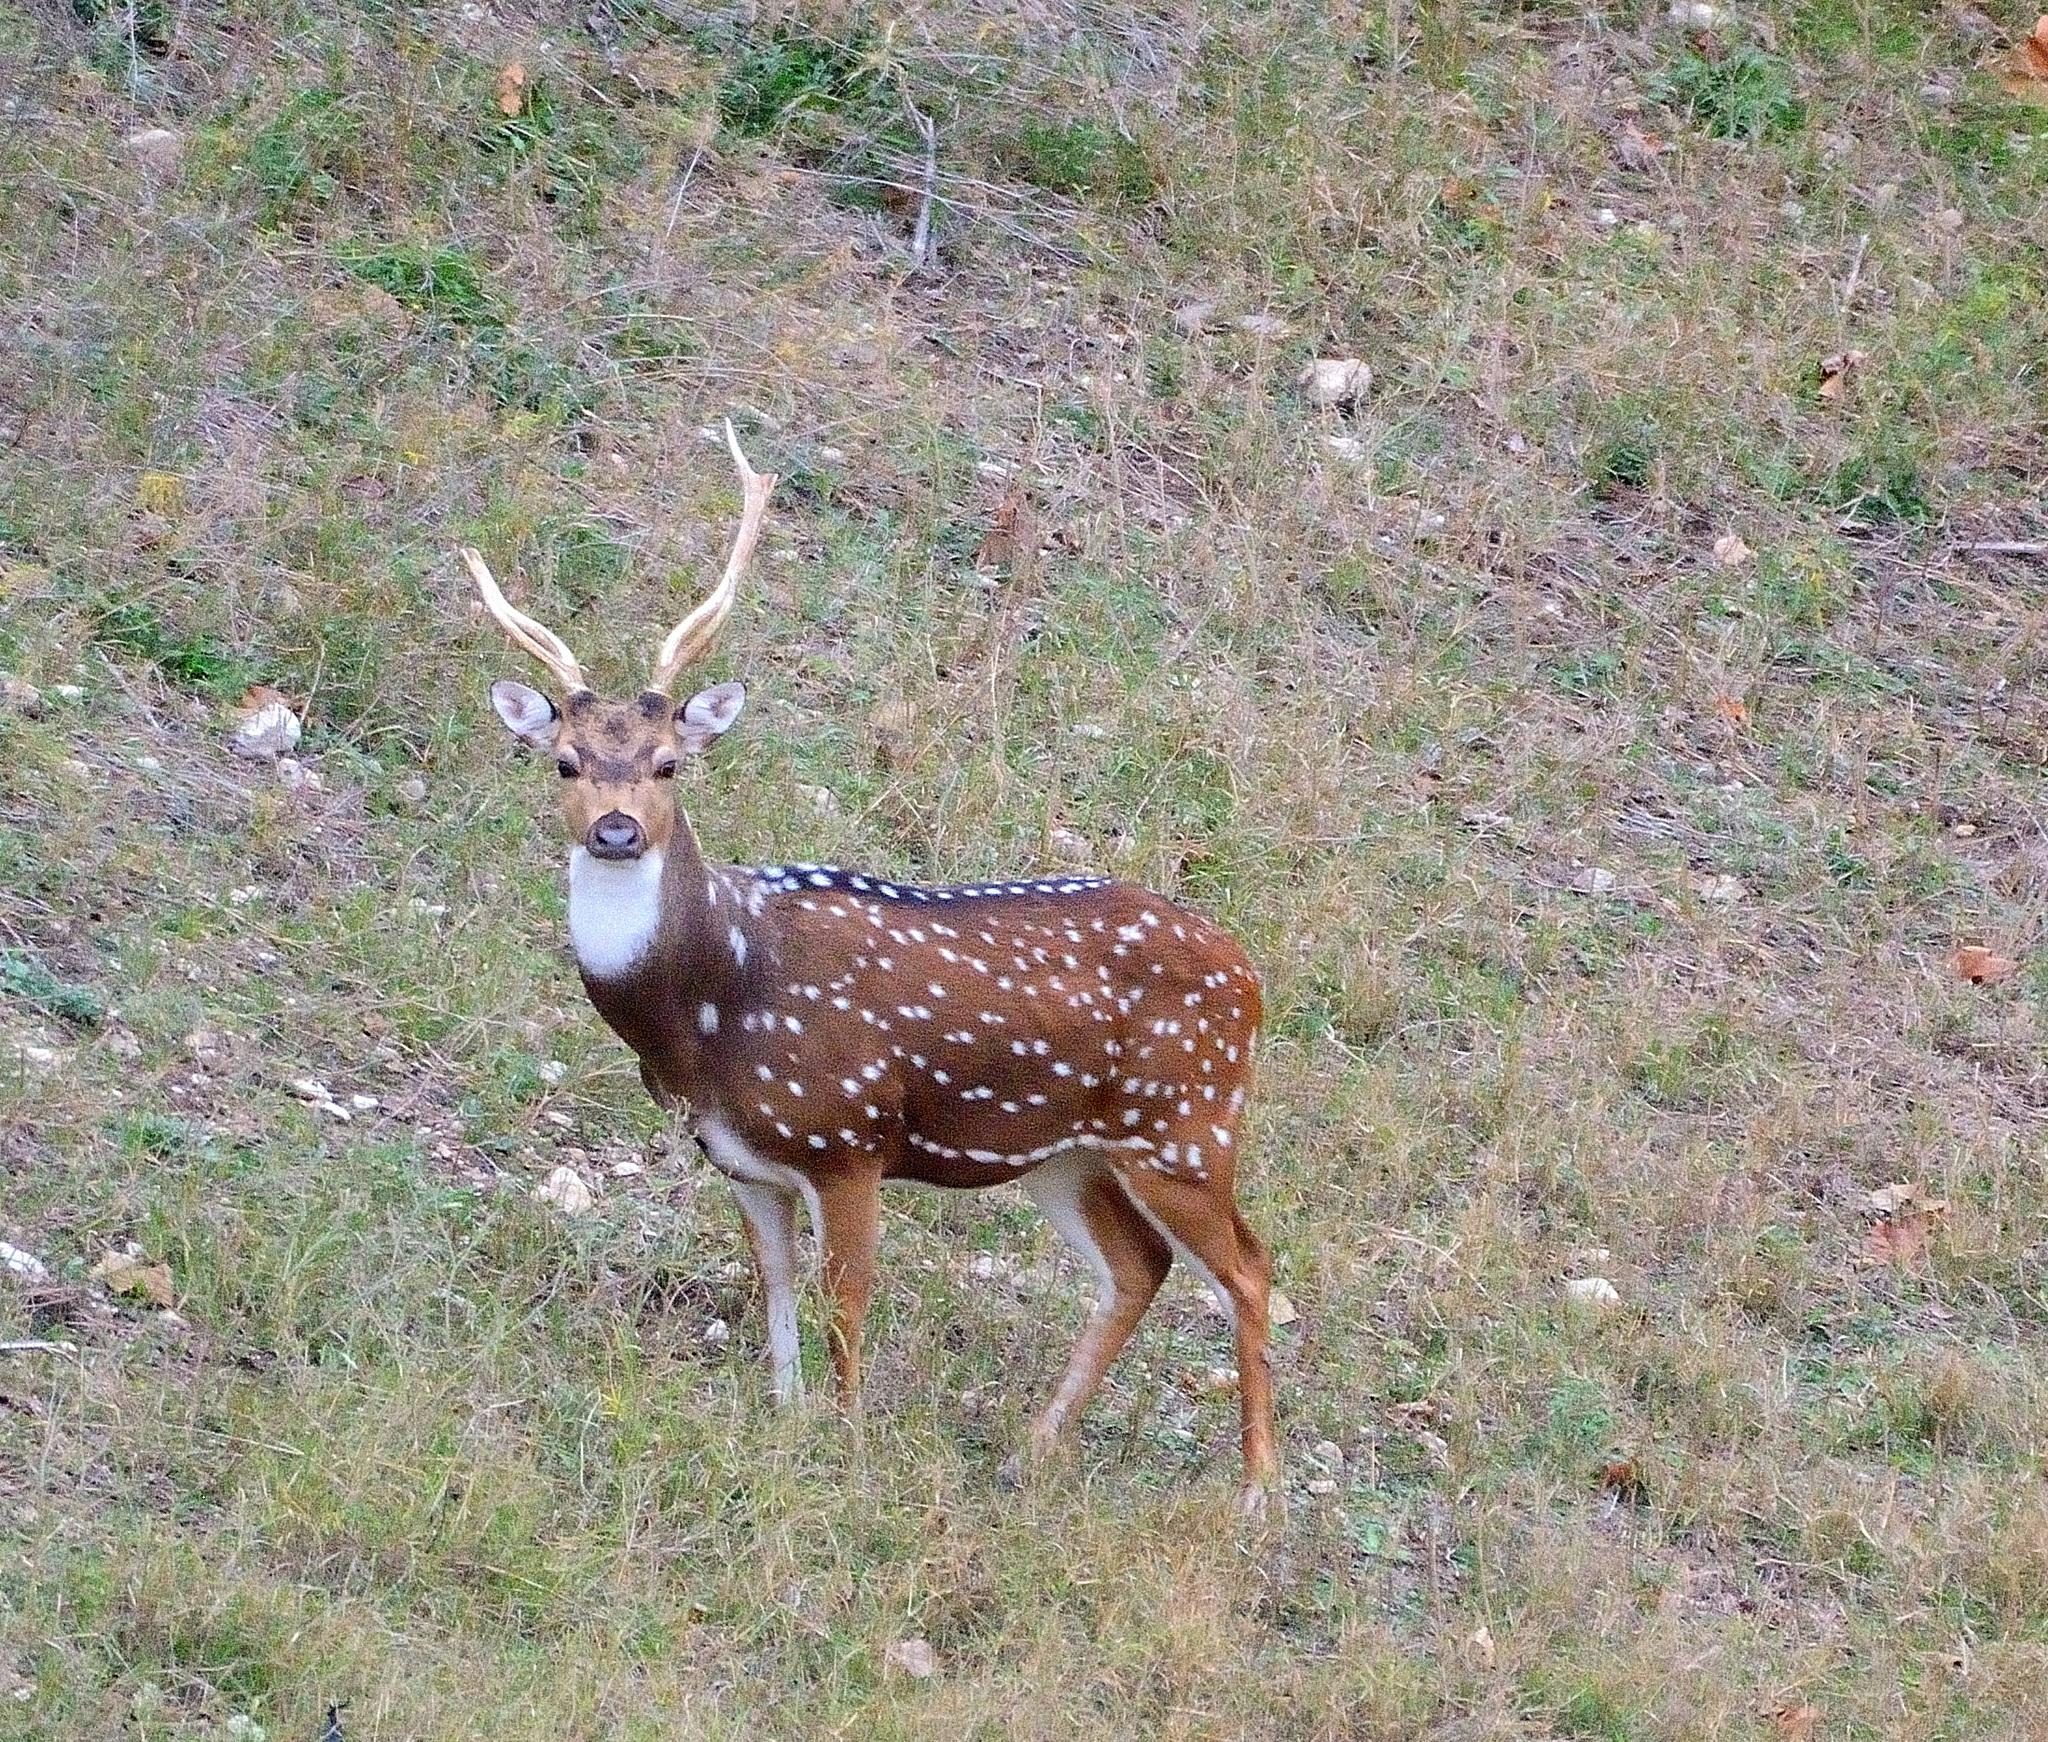Deer: (463, 422, 1275, 1507)
